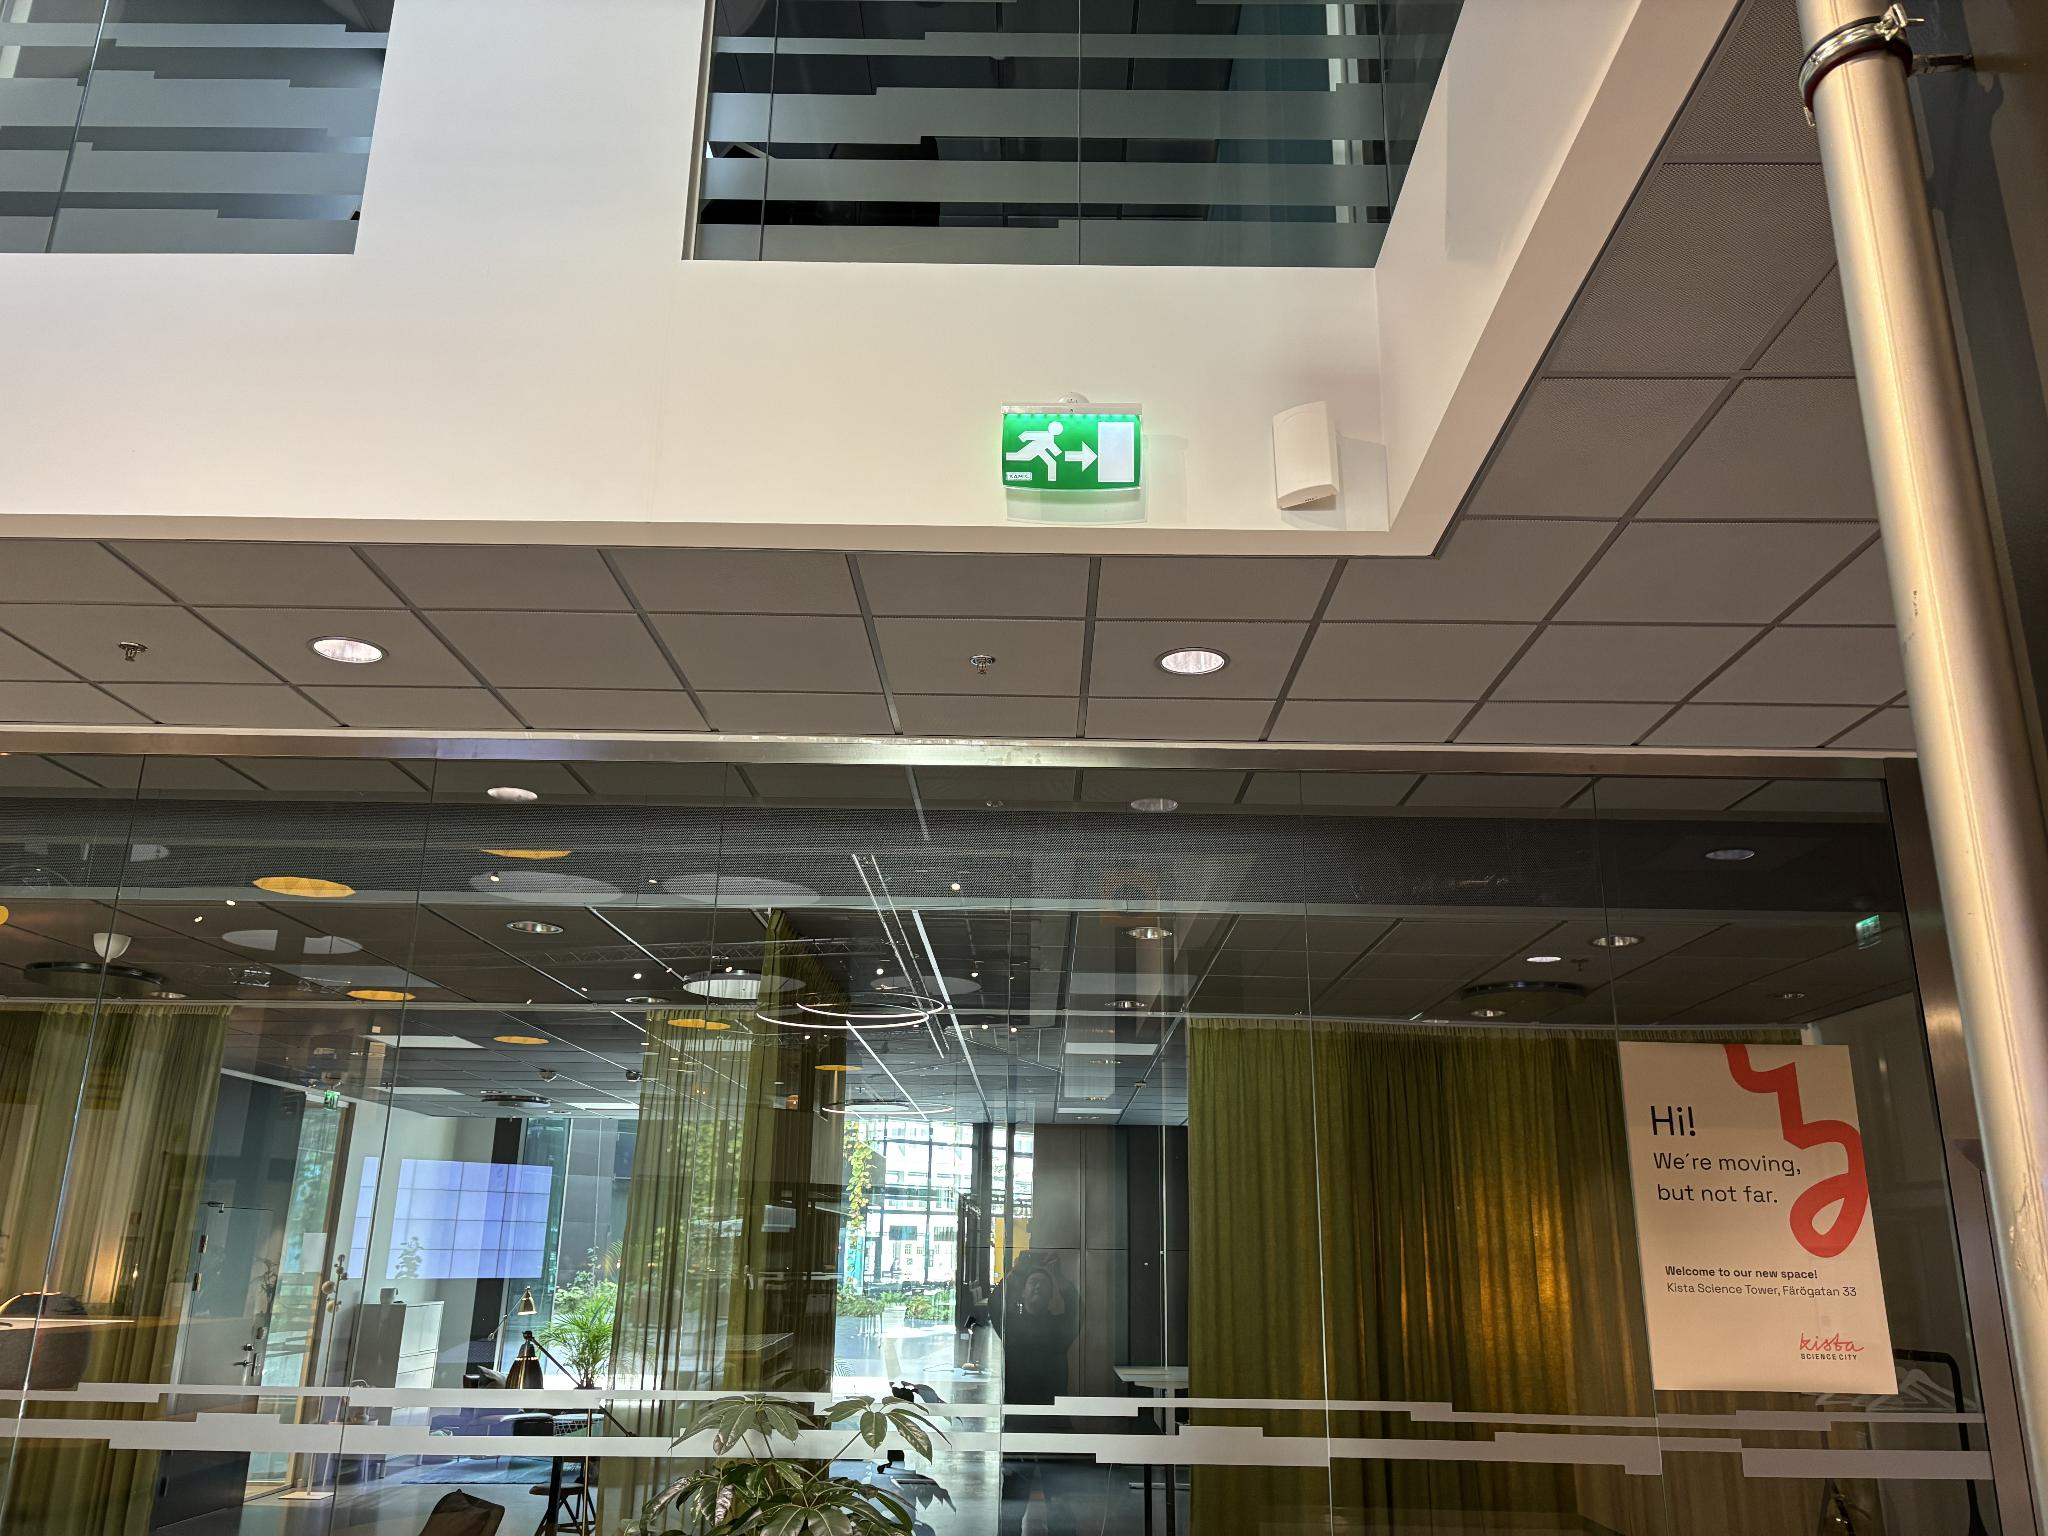exit_sign: (1000, 410, 1147, 487)
